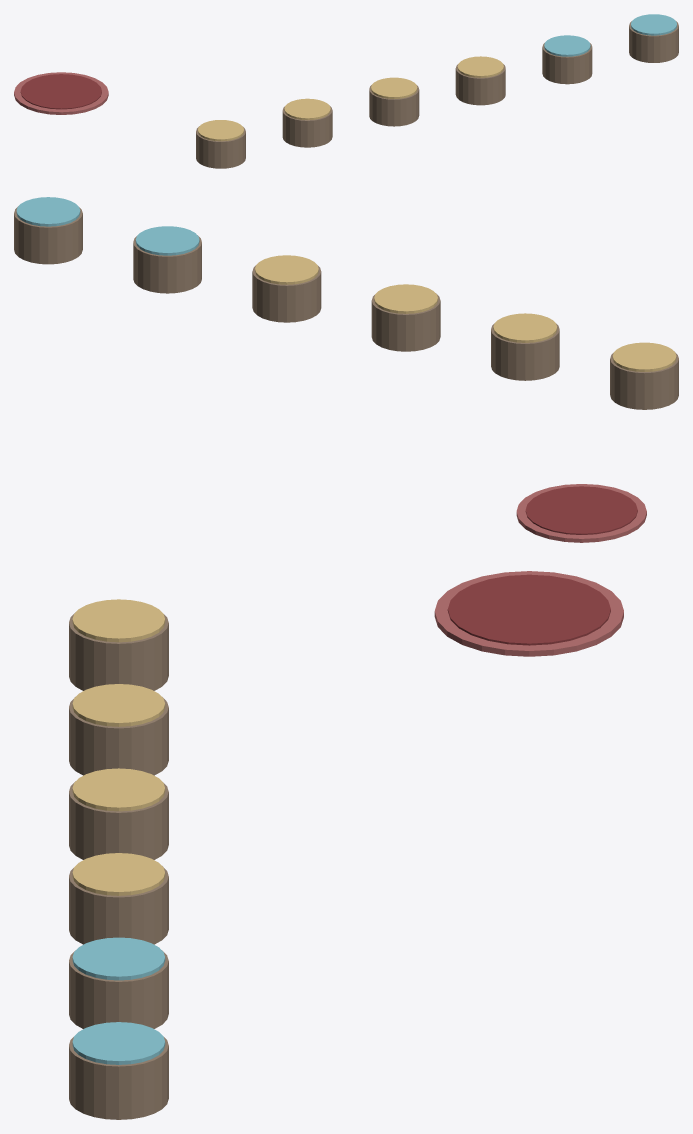
The model's file is shop_fixtures.glb.
The picture shows the model from 3 angles, top to bottom: view 1: azimuth 30°, elevation 25°; view 2: azimuth 150°, elevation 25°; view 3: azimuth 270°, elevation 25°; orthographic projection. The views are drawn at different scales.
Parts seen in each view (by area): view 1: Shop Fixtures Export; view 2: Shop Fixtures Export; view 3: Shop Fixtures Export.
Part boxes in pixels (<box>): Shop Fixtures Export: <box>14,14,678,168</box>; Shop Fixtures Export: <box>14,197,678,542</box>; Shop Fixtures Export: <box>69,571,623,1119</box>.
Size of the model in its own units: 24.25 by 1.2 by 10.55.
